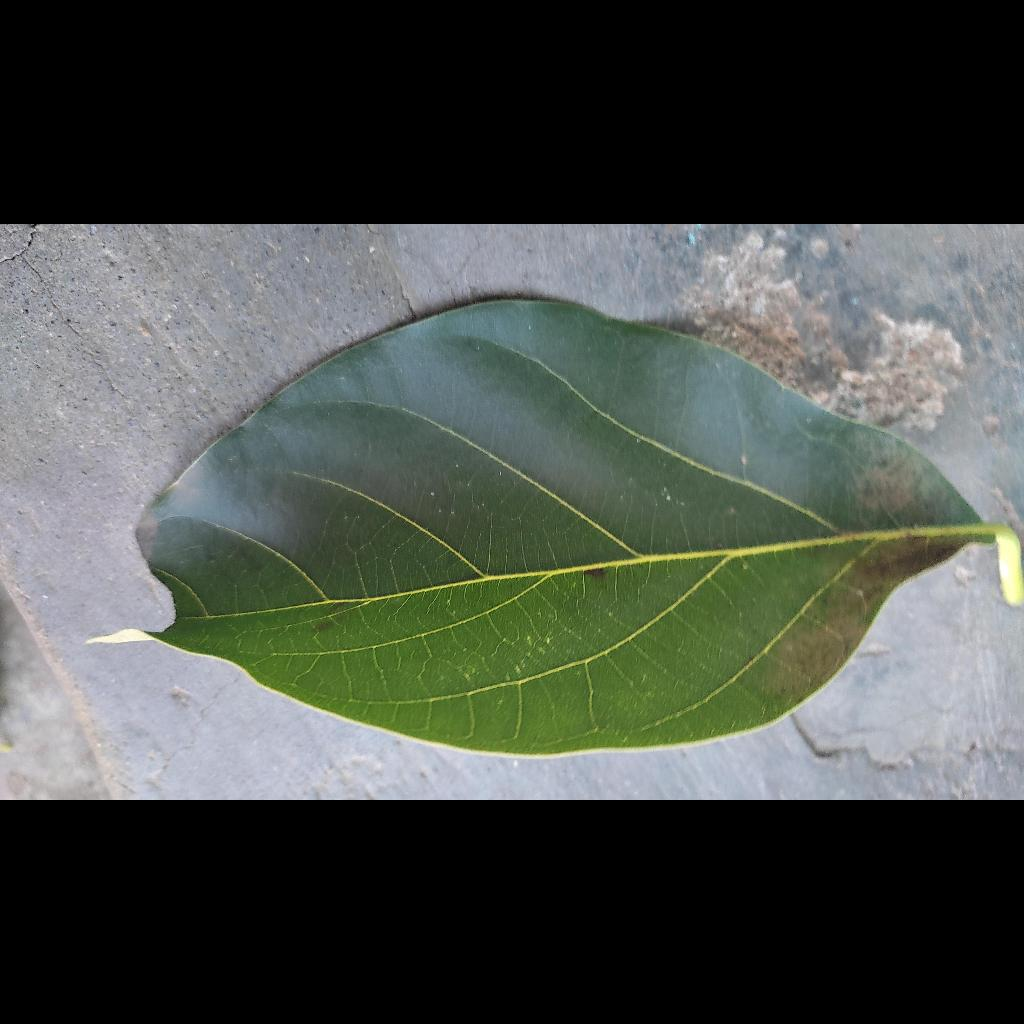persea_mite: (770, 534, 976, 706), (826, 425, 936, 521)
